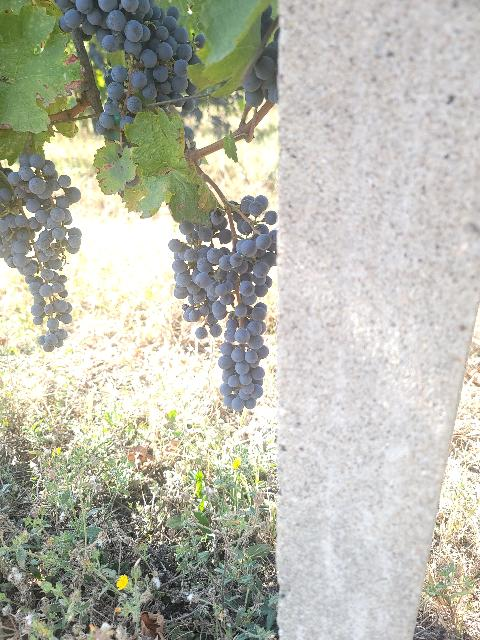grapes: (55, 0, 200, 100), (218, 195, 278, 411), (0, 188, 72, 352), (169, 211, 231, 339), (8, 154, 81, 249)
